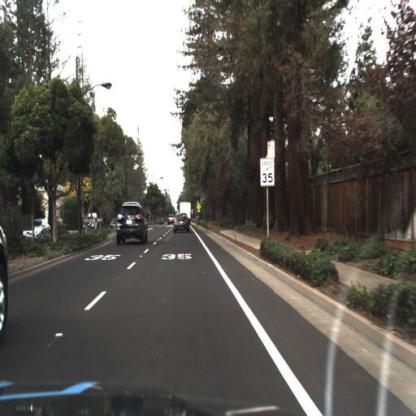car: (114, 200, 150, 249), (1, 220, 12, 347), (24, 219, 53, 244), (173, 212, 192, 235), (85, 212, 102, 236), (167, 213, 177, 230)
truck: (180, 201, 194, 223)
